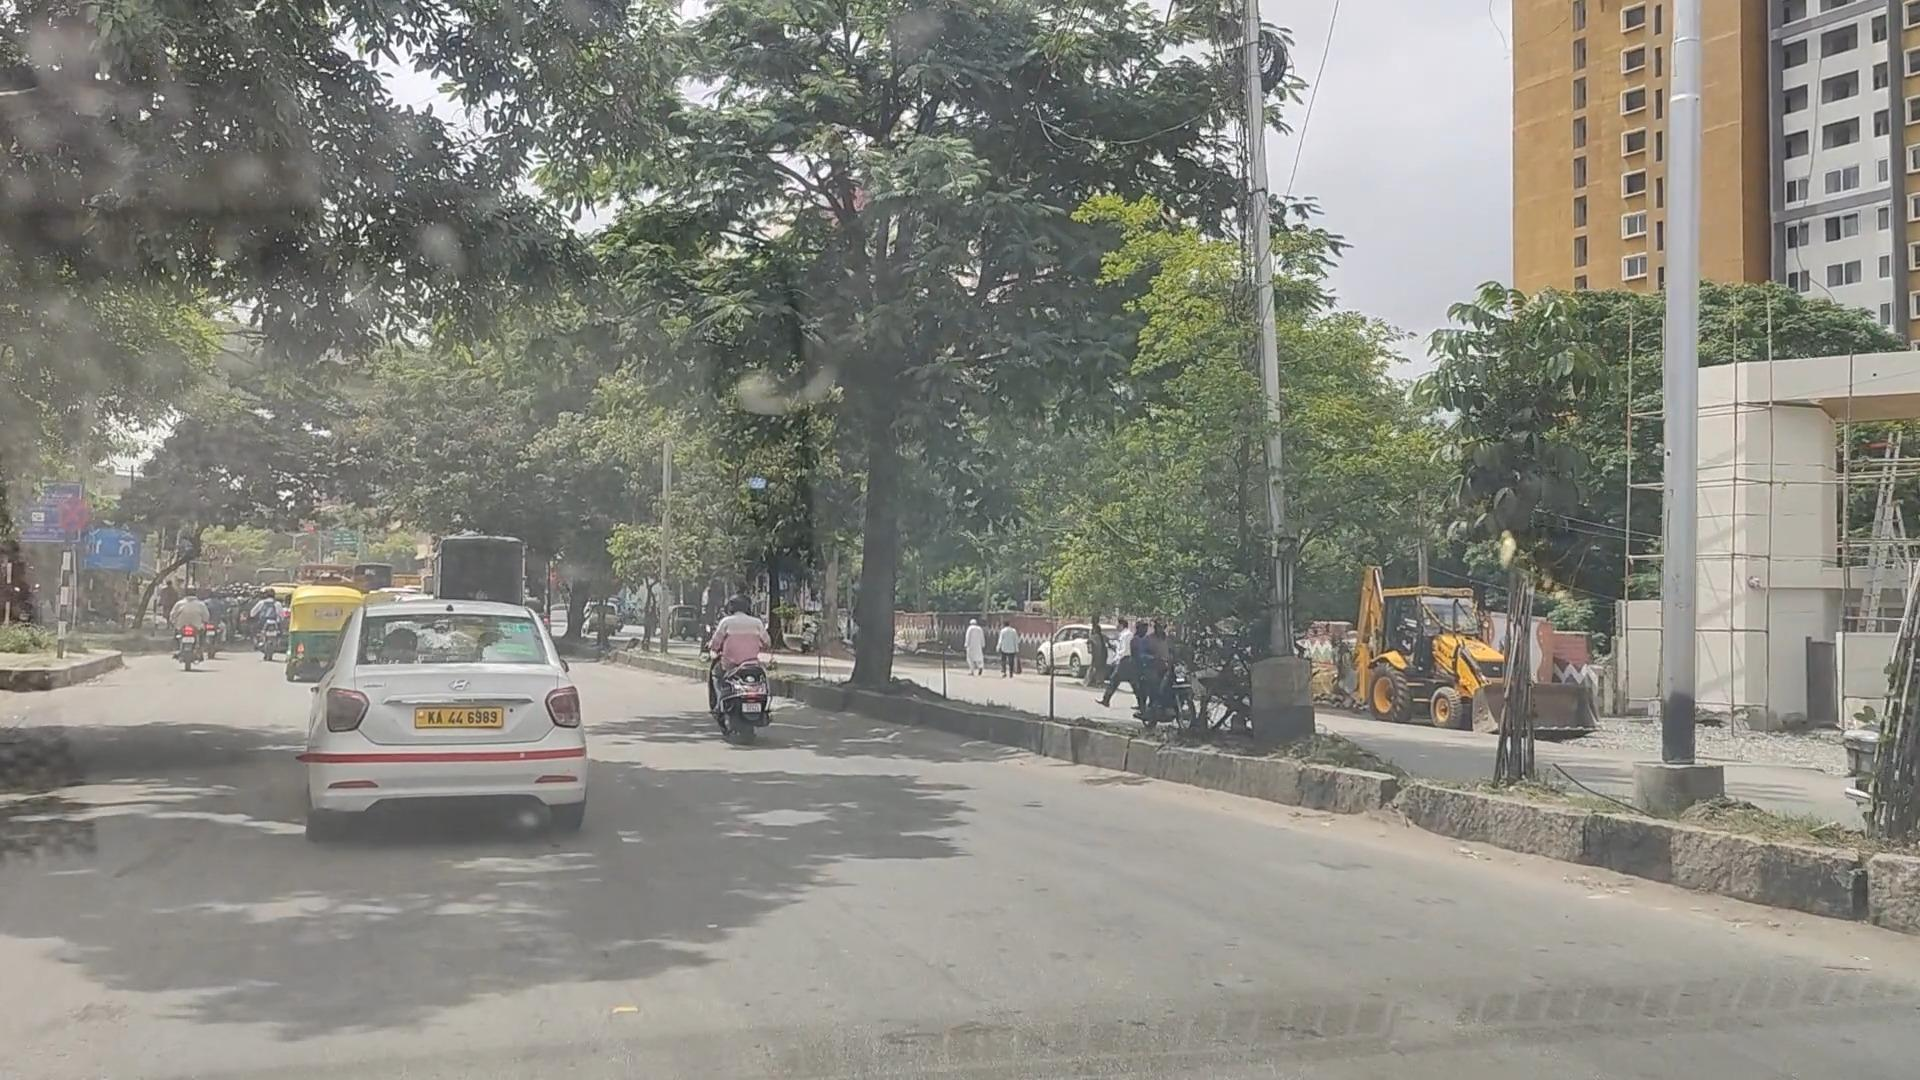LMV: (324, 607, 600, 832), (704, 575, 783, 742)
